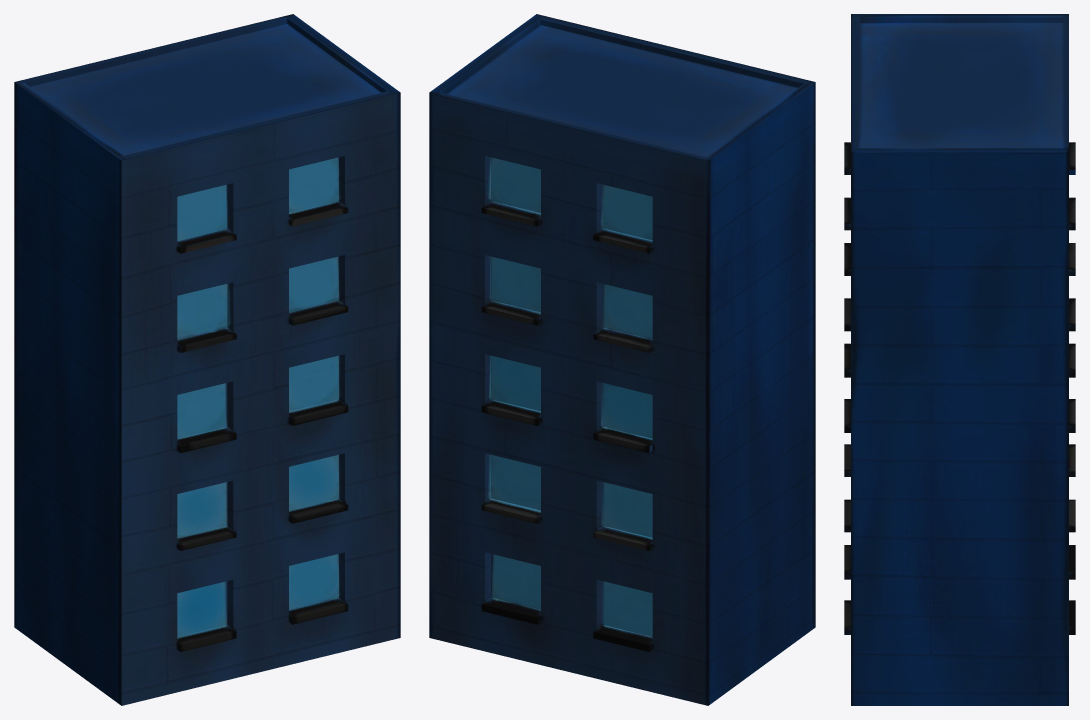
File: SkyScraperBuildingBlue.fbx
The picture shows the model from 3 angles, left to right: view 1: azimuth 30°, elevation 25°; view 2: azimuth 150°, elevation 25°; view 3: azimuth 270°, elevation 25°; orthographic projection.
Parts seen in each view (by area): view 1: tallBuilding; view 2: tallBuilding; view 3: tallBuilding.
Part boxes in pixels (left/top/right/bottom): tallBuilding: left=14, top=14, right=400, bottom=705; tallBuilding: left=429, top=14, right=815, bottom=705; tallBuilding: left=844, top=14, right=1075, bottom=705.
Size of the model in its own units: 15 by 28 by 10.62.
